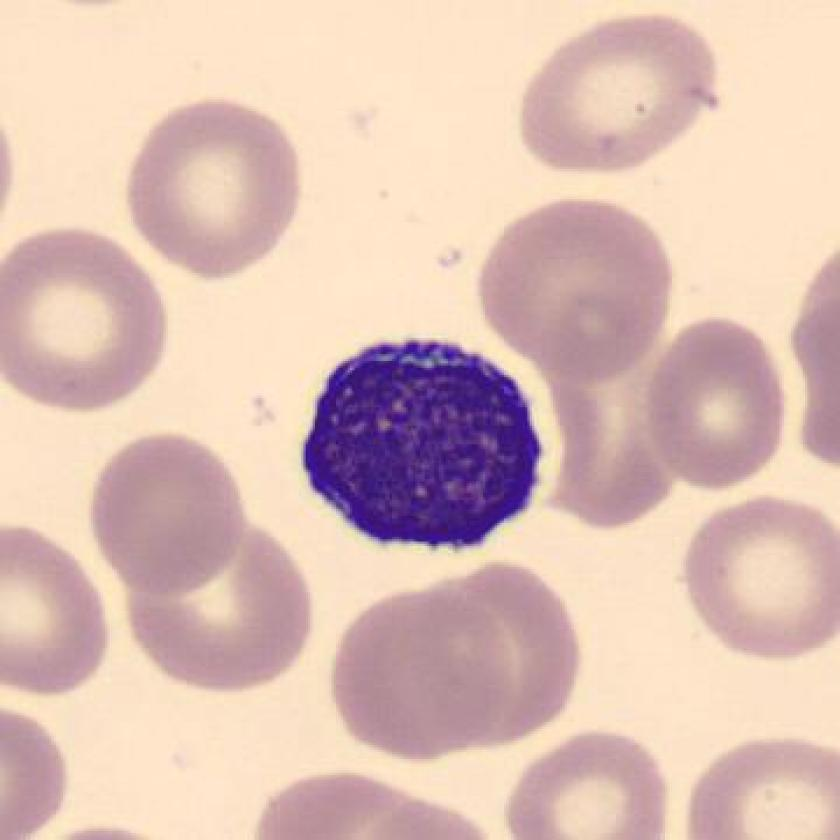lymphocyte: (281, 316, 559, 568)
